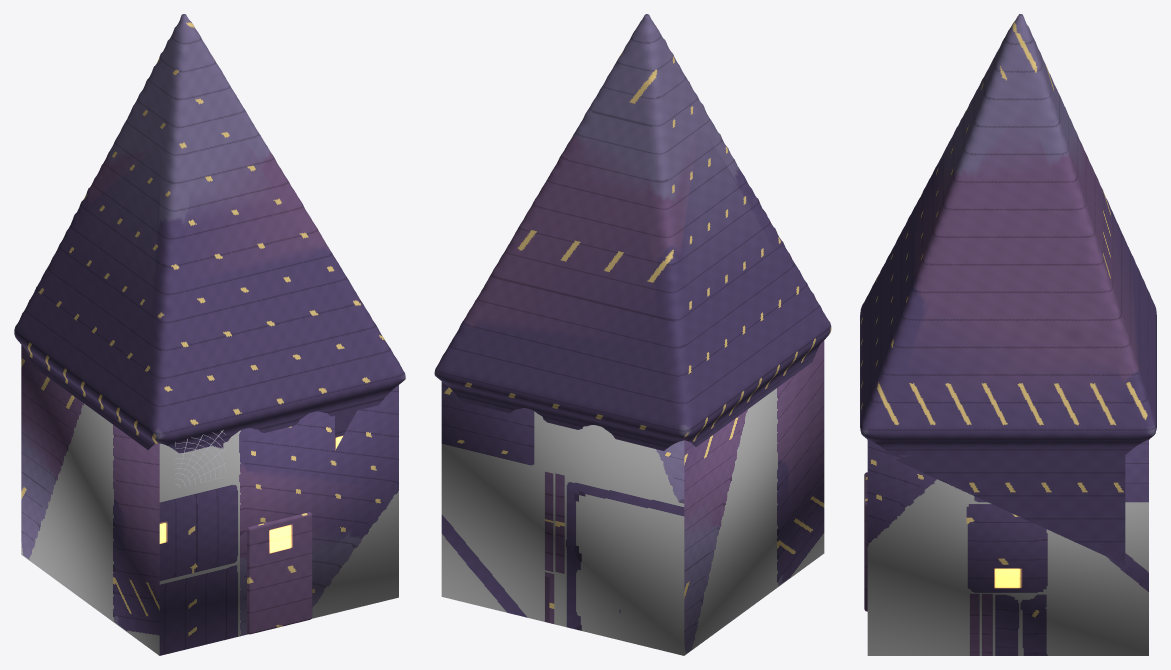
The model's file is house_tower.glb.
The picture shows the model from 3 angles, left to right: view 1: azimuth 30°, elevation 25°; view 2: azimuth 150°, elevation 25°; view 3: azimuth 270°, elevation 25°; orthographic projection.
Parts seen in each view (by area): view 1: lod0, col, door, cobweb; view 2: lod0, col; view 3: lod0, col, door.
Part boxes in pixels (box(x1,y1,x2,y2)): lod0: box(14, 14, 405, 453); col: box(21, 345, 398, 655); door: box(247, 512, 312, 634); cobweb: box(175, 430, 225, 487); lod0: box(434, 14, 831, 613); col: box(441, 340, 824, 655); lod0: box(860, 14, 1156, 564); col: box(867, 439, 1148, 655); door: box(864, 472, 867, 611).
Size of what is drawn, in the model's own units: 7.39 by 15.72 by 7.39.
Materials: 2 (2 with a texture image).
